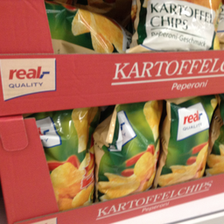chips: (23, 107, 95, 214), (95, 99, 162, 199), (160, 96, 216, 186)
